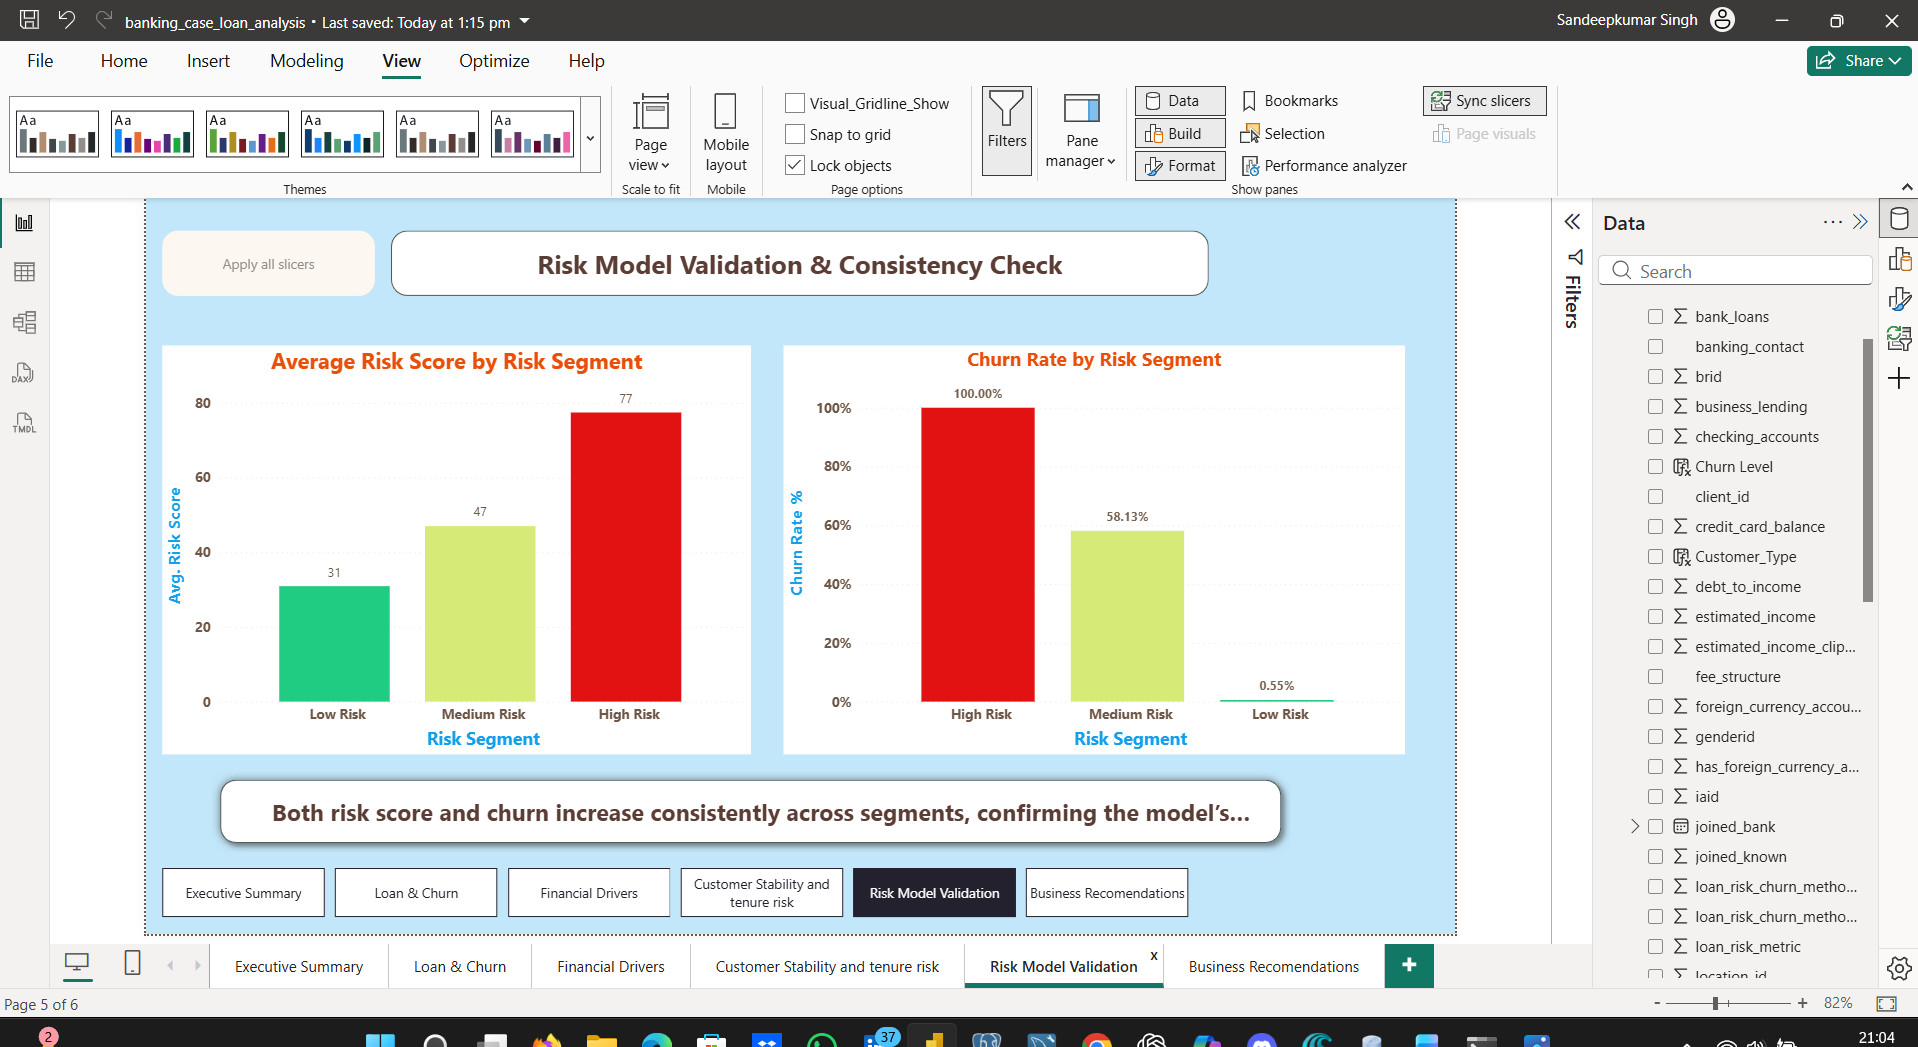

Layout of this report page (visuals, bound fields, positions):
{"tool":"powerbi","page":{"name":"Risk Model Validation","canvas":[1280,720],"ordinal":4},"visuals":[{"type":"clusteredColumnChart","title":"Average Risk Score by Risk Segment","fields":{"Category":["banking_case customers_risk_agg.risk_segment_final"],"Y":["Avg(banking_case customers_cleaned.risk_model_score)"]},"box":[16,144,576,400],"z":0},{"type":"clusteredColumnChart","title":"Churn Rate by Risk Segment","fields":{"Category":["banking_case customers_risk_agg.risk_segment_final"],"Y":["Measures (2).Average_Churn %"]},"box":[624,144,608,400],"z":1000},{"type":"shape","box":[240,32,800,64],"z":2000},{"type":"shape","box":[64,560,1056,80],"z":3000},{"type":"pageNavigator","box":[16,656,1008,48],"z":4000},{"type":"actionButton","box":[16,32,208,64],"z":5000}]}

Visuals, with their boxes on the page's 1280x720 design canvas (x1, y1, x2, y2). These are canvas units, not pixel positions in the 1918x1047 screenshot, which may show the page scaled, cropped or inside an application window:
"Average Risk Score by Risk Segment" clusteredColumnChart: x1=16, y1=144, x2=592, y2=544
"Churn Rate by Risk Segment" clusteredColumnChart: x1=624, y1=144, x2=1232, y2=544
shape: x1=240, y1=32, x2=1040, y2=96
shape: x1=64, y1=560, x2=1120, y2=640
pageNavigator: x1=16, y1=656, x2=1024, y2=704
actionButton: x1=16, y1=32, x2=224, y2=96
